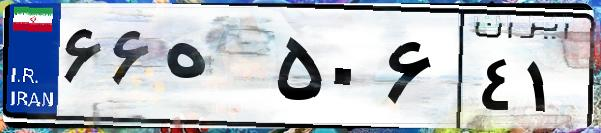0: (330, 28, 385, 110)
1: (525, 38, 570, 115)
4: (475, 38, 525, 113)
5: (270, 28, 330, 110)
6: (385, 28, 445, 110), (57, 26, 110, 100), (110, 28, 158, 98)
ه: (158, 20, 270, 120)
